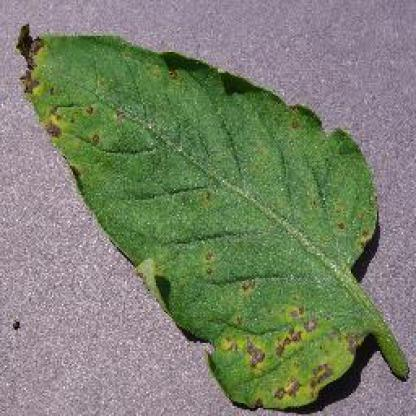bad leaf: (221, 321, 372, 400), (13, 29, 74, 138), (178, 231, 275, 299), (328, 211, 381, 245), (85, 101, 112, 157), (279, 106, 309, 141), (153, 60, 184, 84)
